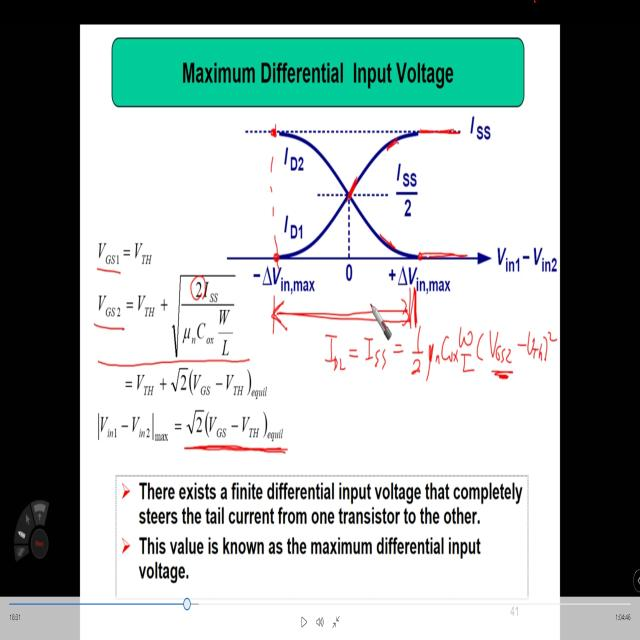panseo: (266, 290, 560, 386)
